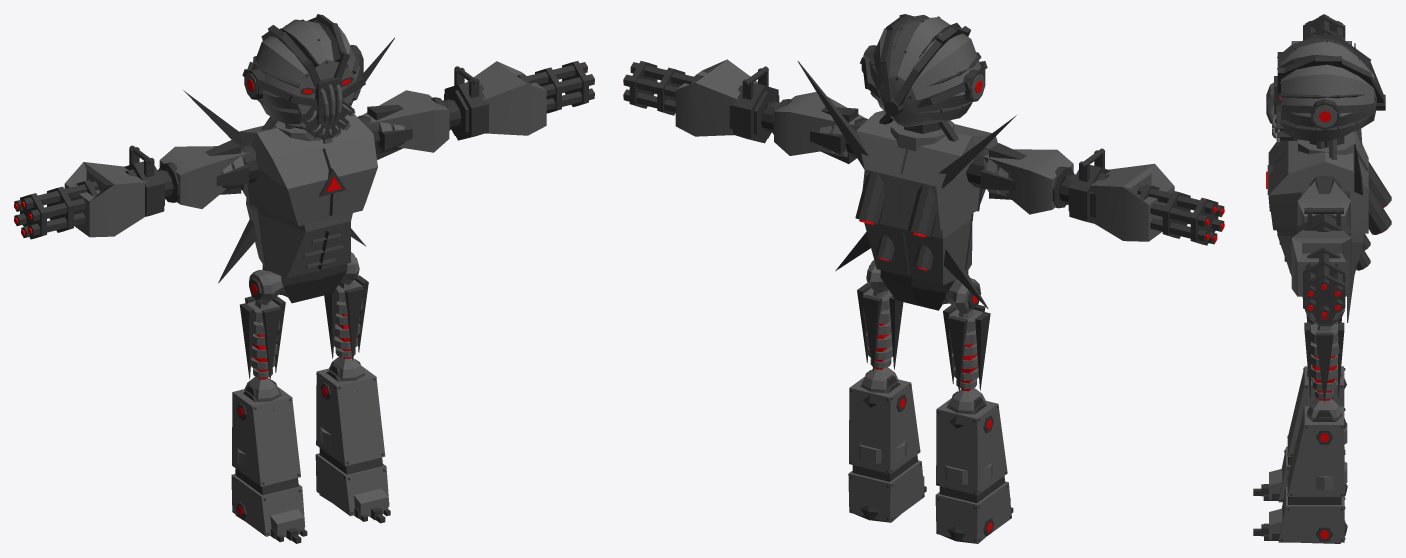
Rendered from Charakter.fbx.
3 views of the same model, side by side, from view 1: azimuth 30°, elevation 25°; view 2: azimuth 150°, elevation 25°; view 3: azimuth 270°, elevation 25° (orthographic). The views are drawn at different scales.
Parts seen in each view (by area): view 1: polySurface36, pasted__polySurface33, pasted__polySurface38, pasted__pCylinder17, polySurface37, pasted__polySurface16, pasted__polySurface9, pasted__polySurface15, pasted__polySurface40, pasted__polySurface37, pasted__polySurface34, polySurface22 (+9 smaller); view 2: polySurface36, pasted__pCylinder17, pasted__polySurface33, pasted__polySurface38, pasted__polySurface16, polySurface37, pasted__polySurface9, pasted__polySurface15, pasted__polySurface37, pasted__polySurface34, pasted__polySurface40, pasted__Hips (+12 smaller); view 3: pasted__pCylinder17, polySurface36, pasted__polySurface38, pasted__polySurface37, pasted__polySurface9, pasted__polySurface40, pasted__polySurface33, polySurface42, pCylinder119, pPrism36, polySurface37, pCylinder152 (+35 smaller).
Boxes of the visible parts, box(x1,y1,x2,y2) form: polySurface36: box(239, 114, 377, 226); pasted__polySurface33: box(232, 386, 300, 486); pasted__polySurface38: box(316, 365, 385, 466); pasted__pCylinder17: box(252, 19, 359, 126); polySurface37: box(246, 197, 352, 278); pasted__polySurface16: box(64, 162, 148, 237); pasted__polySurface9: box(466, 61, 546, 135); pasted__polySurface15: box(159, 146, 249, 208); pasted__polySurface40: box(361, 90, 449, 152); pasted__polySurface37: box(315, 453, 389, 516); pasted__polySurface34: box(231, 474, 305, 536); polySurface22: box(244, 270, 287, 401); polySurface36: box(856, 110, 997, 230); pasted__pCylinder17: box(869, 17, 981, 127); pasted__polySurface33: box(936, 398, 1007, 495); pasted__polySurface38: box(849, 376, 920, 473); pasted__polySurface16: box(1090, 163, 1174, 241); polySurface37: box(864, 214, 972, 285); pasted__polySurface9: box(675, 59, 757, 136); pasted__polySurface15: box(982, 149, 1073, 214); pasted__polySurface37: box(848, 460, 924, 522); pasted__polySurface34: box(935, 481, 1011, 543); pasted__polySurface40: box(774, 92, 866, 155); pasted__Hips: box(880, 270, 968, 310); pasted__pCylinder17: box(1281, 40, 1376, 141); polySurface36: box(1268, 131, 1368, 233); pasted__polySurface38: box(1287, 406, 1344, 496); pasted__polySurface37: box(1278, 486, 1344, 542); pasted__polySurface9: box(1291, 230, 1351, 296); pasted__polySurface40: box(1297, 180, 1350, 236); pasted__polySurface33: box(1287, 366, 1344, 456); polySurface42: box(1305, 309, 1344, 420); pCylinder119: box(1303, 273, 1345, 316); pPrism36: box(1315, 332, 1333, 402); polySurface37: box(1277, 230, 1363, 275); pCylinder152: box(1368, 185, 1391, 234).
Bounding box in the file's own units: 2.1 × 1.73 × 0.457.
